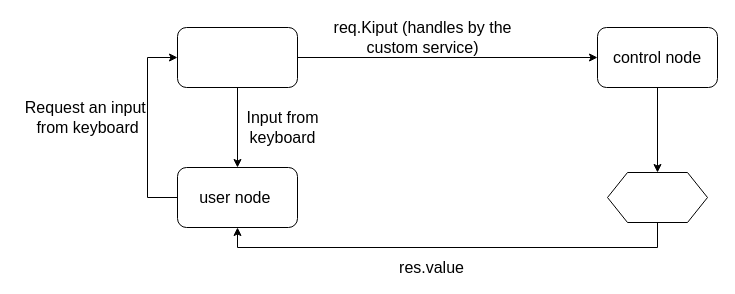
Some shapes in this 735 by 294 pixel diagram are drawn without their labels. Each missing label, with the box of its shape:
incr/decr velocity: (606, 172, 708, 222)
USER: (176, 26, 298, 88)
